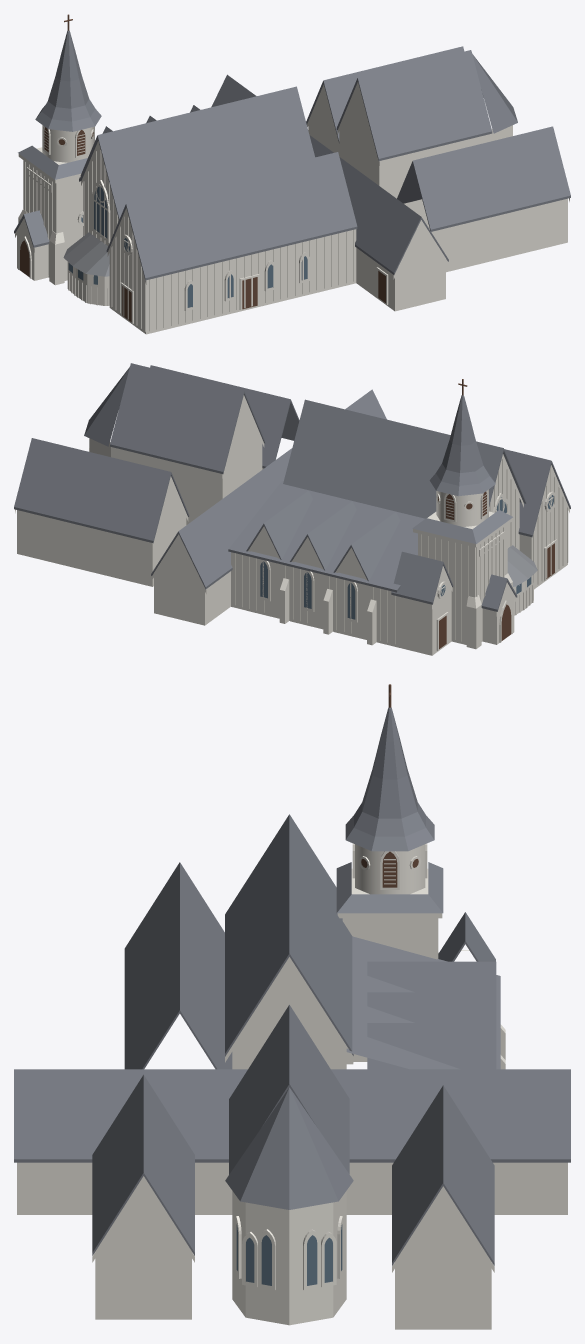
The model's file is wellington-old-st-pauls.detail.glb.
3 views of the same model, one above another, from view 1: azimuth 30°, elevation 25°; view 2: azimuth 150°, elevation 25°; view 3: azimuth 270°, elevation 25° (orthographic). The views are drawn at different scales.
Visible parts, largest first — view 1: Old St Paul's; view 2: Old St Paul's; view 3: Old St Paul's.
Part boxes in pixels (x1,y1,x2,y2): Old St Paul's: [14, 14, 570, 334]; Old St Paul's: [14, 363, 570, 655]; Old St Paul's: [14, 684, 570, 1329].
Size of the model in its own units: 37.68 by 19.6 by 27.7.
